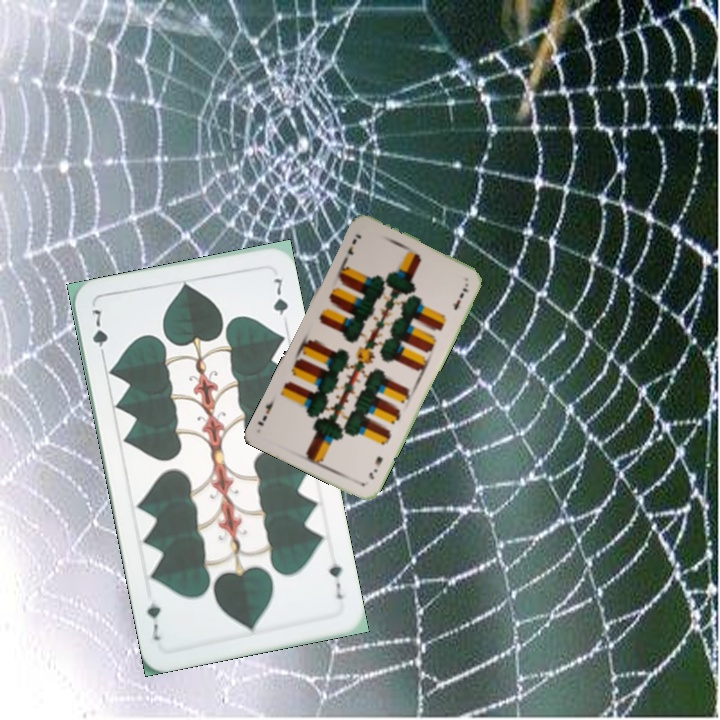E7: (365, 452, 385, 482), (344, 230, 364, 258)
G7: (87, 305, 111, 362), (325, 559, 346, 602)
